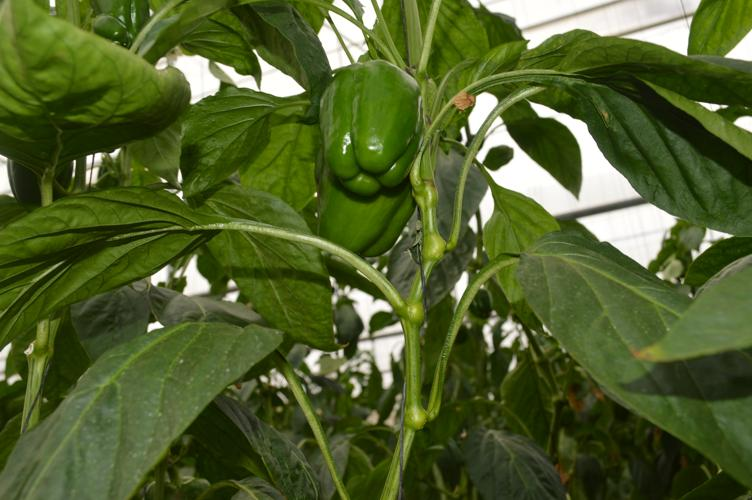BellPepper: (317, 61, 416, 189), (317, 180, 410, 257)
